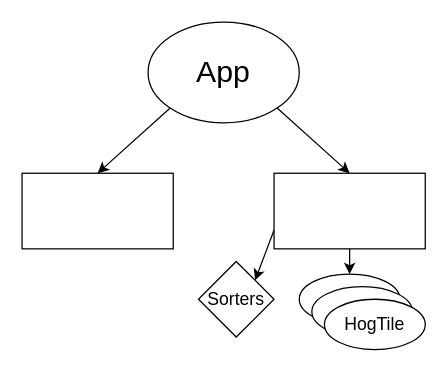
The diagram is 447 pixels wide and 372 high, and some of its shapes have lost their labels. Each missing label, with the centre of its shape:
"HogTileContainer" belongs at [349,210].
"Nav" belongs at [97,210].
